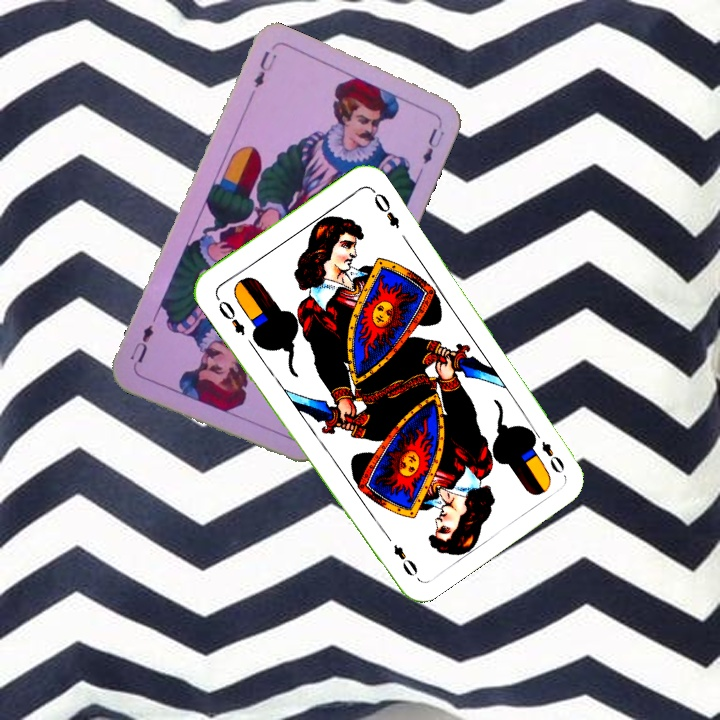EO: (528, 425, 568, 477), (214, 296, 248, 339)
EU: (250, 47, 279, 90)
